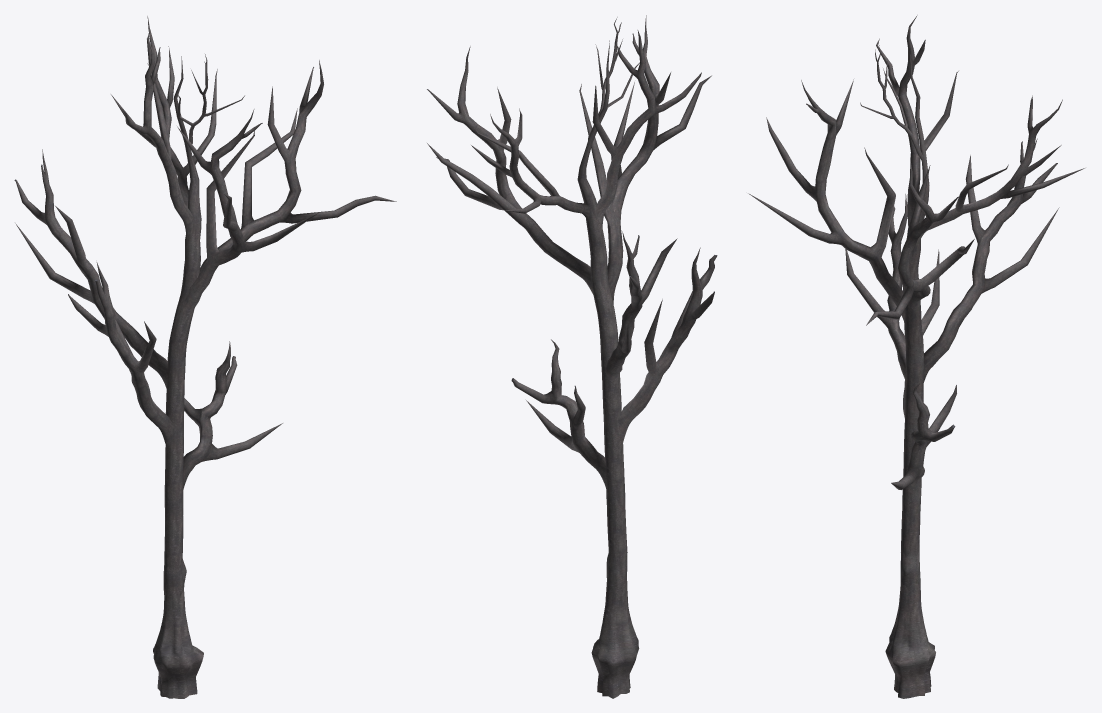
3 renders of one model, left to right at view 1: azimuth 30°, elevation 25°; view 2: azimuth 150°, elevation 25°; view 3: azimuth 270°, elevation 25°, orthographic.
Visible parts, largest first — view 1: SM_FH_Ash_Tree_Bare_02_LOD0; view 2: SM_FH_Ash_Tree_Bare_02_LOD0; view 3: SM_FH_Ash_Tree_Bare_02_LOD0.
Part boxes in pixels (x1,y1,x2,y2): SM_FH_Ash_Tree_Bare_02_LOD0: [14, 16, 396, 698]; SM_FH_Ash_Tree_Bare_02_LOD0: [427, 15, 717, 698]; SM_FH_Ash_Tree_Bare_02_LOD0: [748, 15, 1084, 698].
Size of the model in its own units: 7.61 by 15.87 by 7.39.
1 material, 1 textured.
